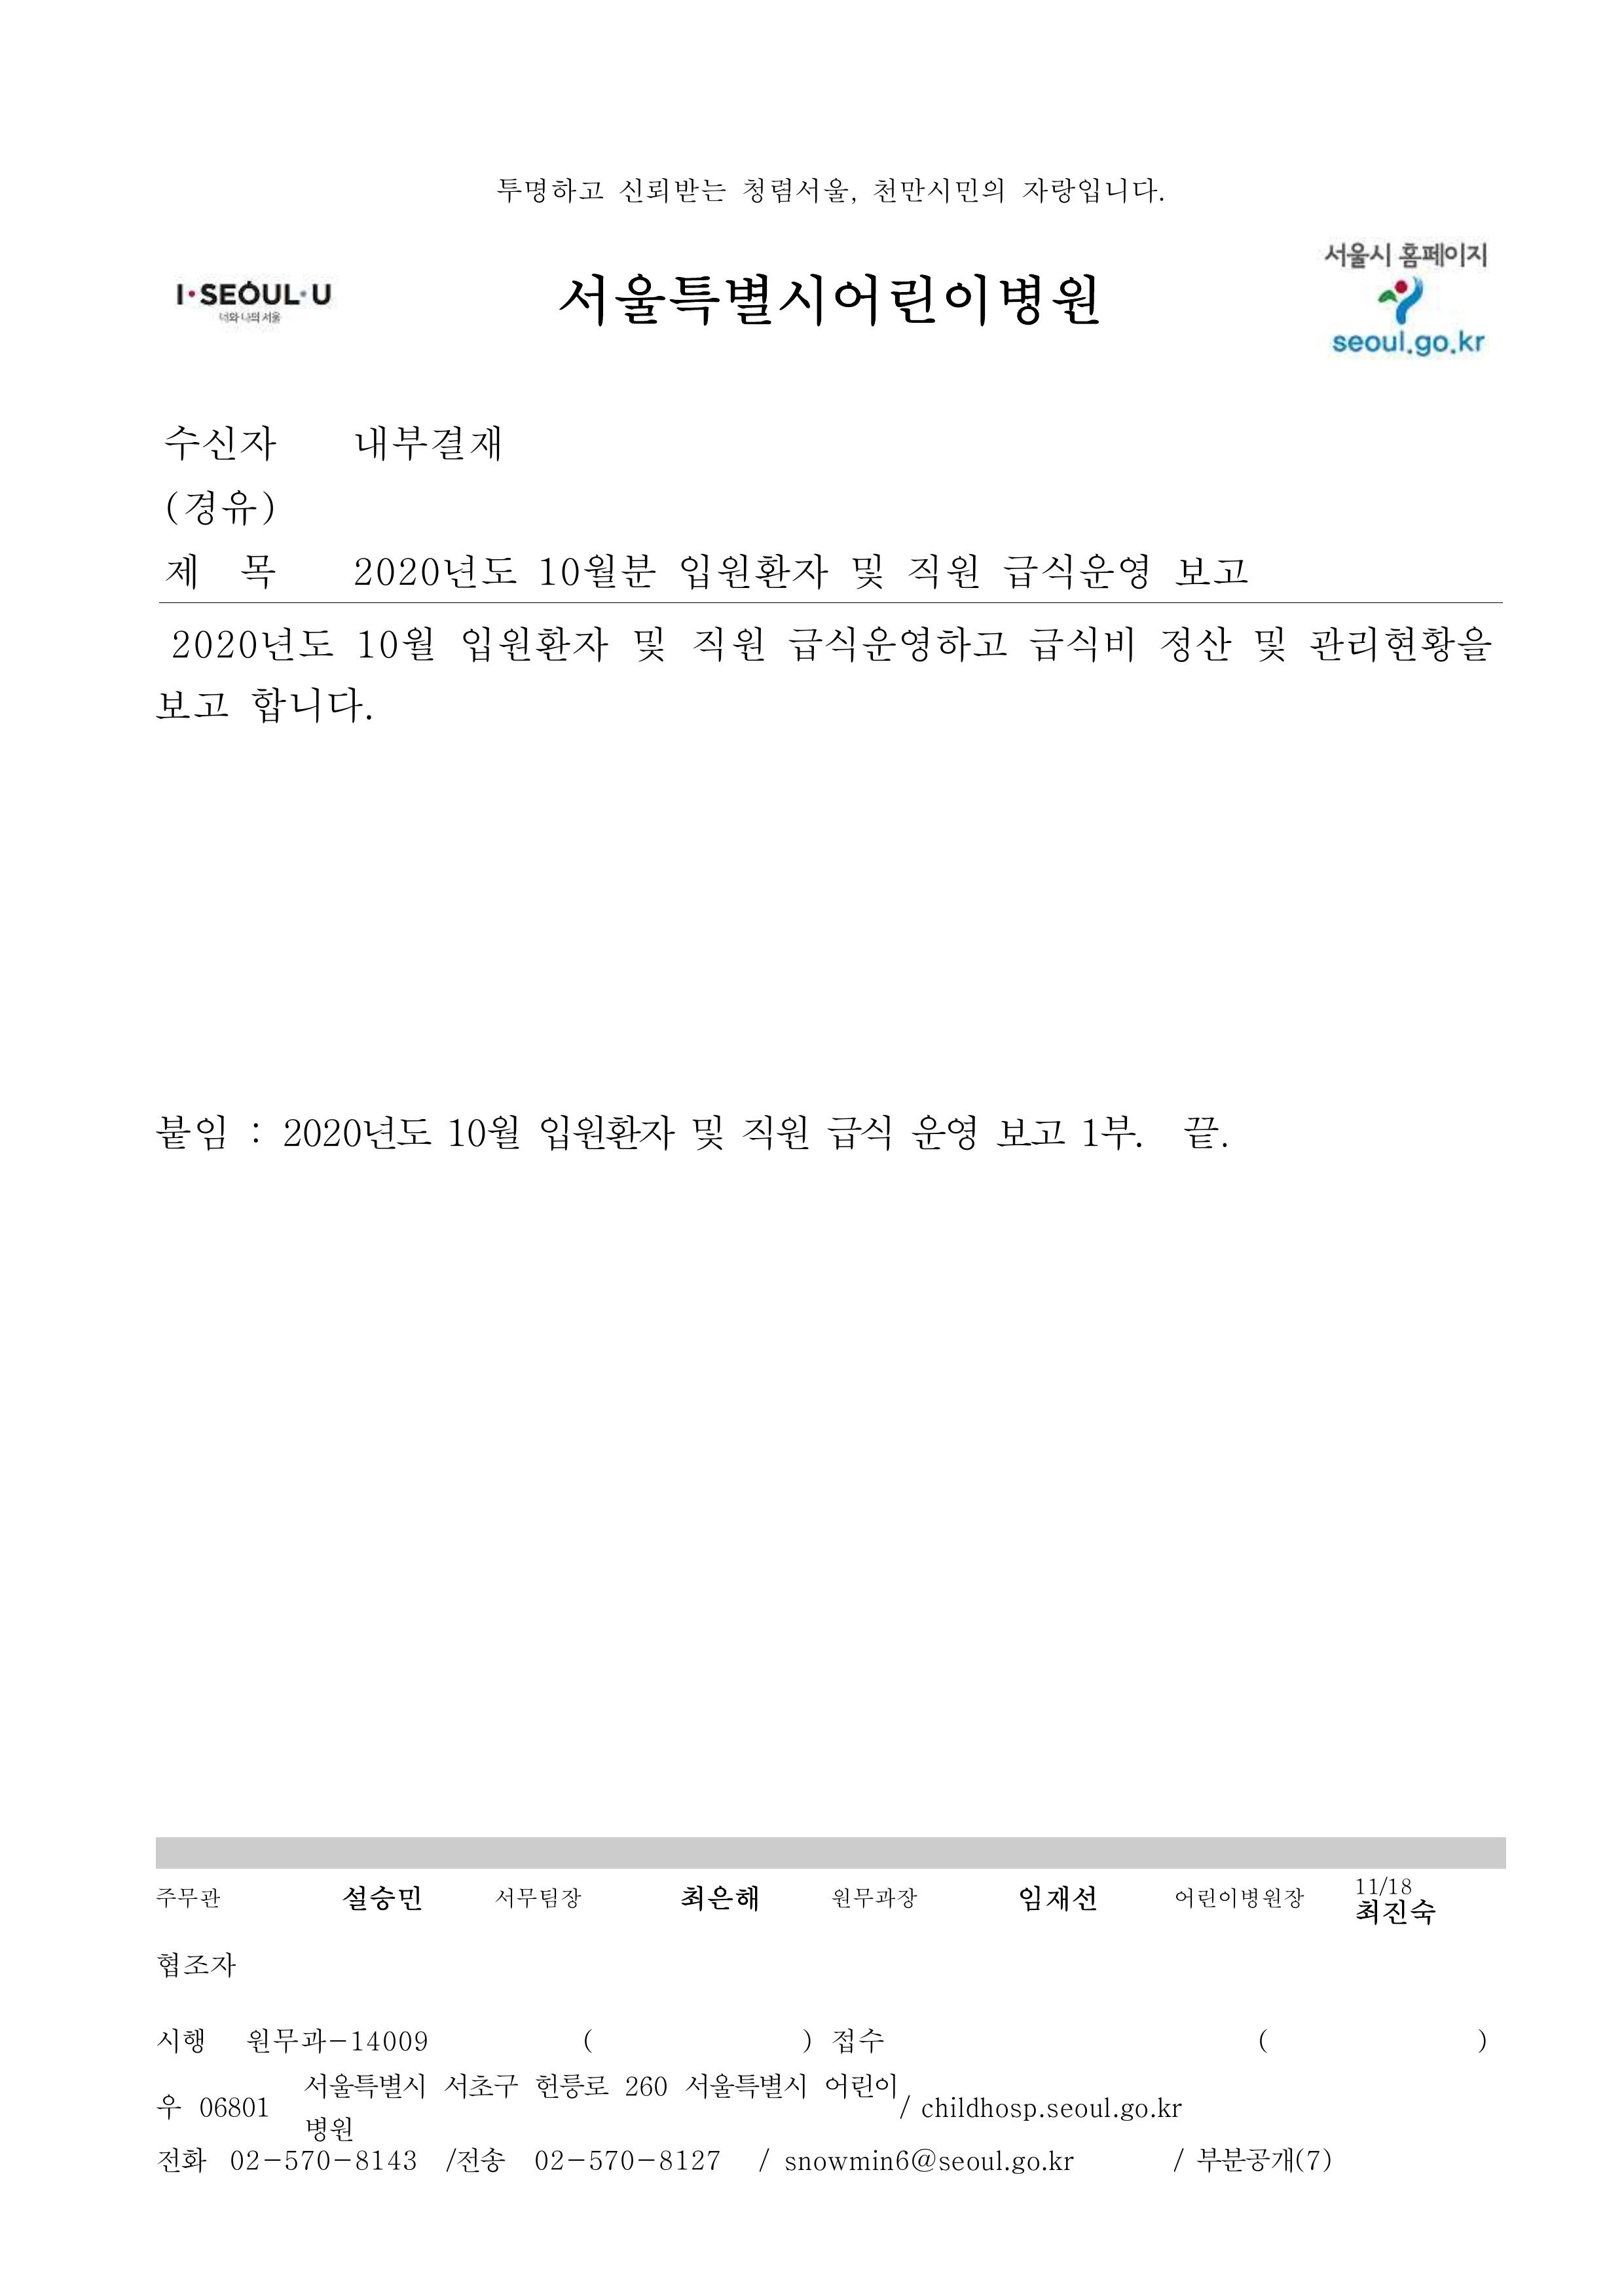t: (556, 264, 1101, 335), (785, 623, 1011, 670), (1305, 620, 1495, 667), (678, 548, 836, 598), (921, 2097, 1183, 2126), (351, 423, 506, 469), (459, 623, 616, 667), (244, 2022, 430, 2058), (1000, 552, 1154, 595), (538, 1111, 681, 1158), (351, 552, 520, 591), (168, 623, 333, 663), (782, 2144, 1015, 2173), (993, 1111, 1140, 1154), (280, 1111, 434, 1150), (247, 685, 377, 731), (534, 548, 659, 595), (161, 487, 280, 534), (168, 276, 333, 308), (1018, 172, 1162, 208), (868, 172, 1007, 208), (1025, 623, 1140, 667), (164, 423, 280, 466), (229, 2148, 419, 2173), (1190, 2144, 1334, 2176), (1329, 333, 1488, 361), (613, 172, 728, 208), (739, 172, 853, 208), (681, 2068, 807, 2101), (301, 2068, 426, 2101), (493, 175, 605, 211), (1154, 623, 1237, 667), (904, 552, 982, 595), (154, 1111, 232, 1154), (1172, 1886, 1305, 1911), (1395, 236, 1488, 272), (911, 1111, 982, 1158), (739, 1111, 814, 1154), (824, 1115, 900, 1158), (355, 623, 434, 663), (688, 623, 764, 663), (678, 1879, 760, 1915), (1352, 1893, 1434, 1929), (154, 1947, 236, 1983), (445, 1111, 520, 1150), (1319, 236, 1395, 272), (441, 2068, 523, 2101), (341, 1882, 423, 1915), (1014, 1882, 1097, 1915), (530, 2068, 610, 2101), (821, 2068, 900, 2101), (1176, 552, 1247, 588), (154, 688, 229, 720), (494, 1886, 584, 1911), (832, 1886, 918, 1911), (200, 2094, 272, 2123), (824, 2027, 884, 2061), (846, 552, 893, 595), (445, 2144, 506, 2176), (154, 2144, 208, 2176), (1247, 623, 1287, 667), (301, 2112, 355, 2144), (627, 623, 667, 667), (688, 1111, 728, 1154), (588, 2148, 656, 2173), (656, 2148, 724, 2173), (157, 1886, 222, 1911), (620, 2068, 671, 2101), (154, 2026, 208, 2055), (236, 552, 276, 591), (1183, 1111, 1223, 1150), (164, 555, 204, 588), (534, 2148, 584, 2173), (1356, 1879, 1416, 1897), (1011, 2155, 1050, 2176), (161, 2094, 186, 2119), (1047, 2151, 1075, 2173)
